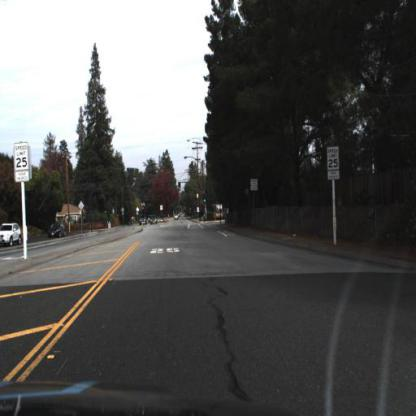car: (1, 222, 23, 249), (46, 215, 66, 241), (148, 213, 159, 229), (139, 213, 149, 230)
trafficLight-Green: (202, 193, 209, 210), (178, 181, 184, 193)
trafficLight-RedLeft: (142, 202, 148, 215)
